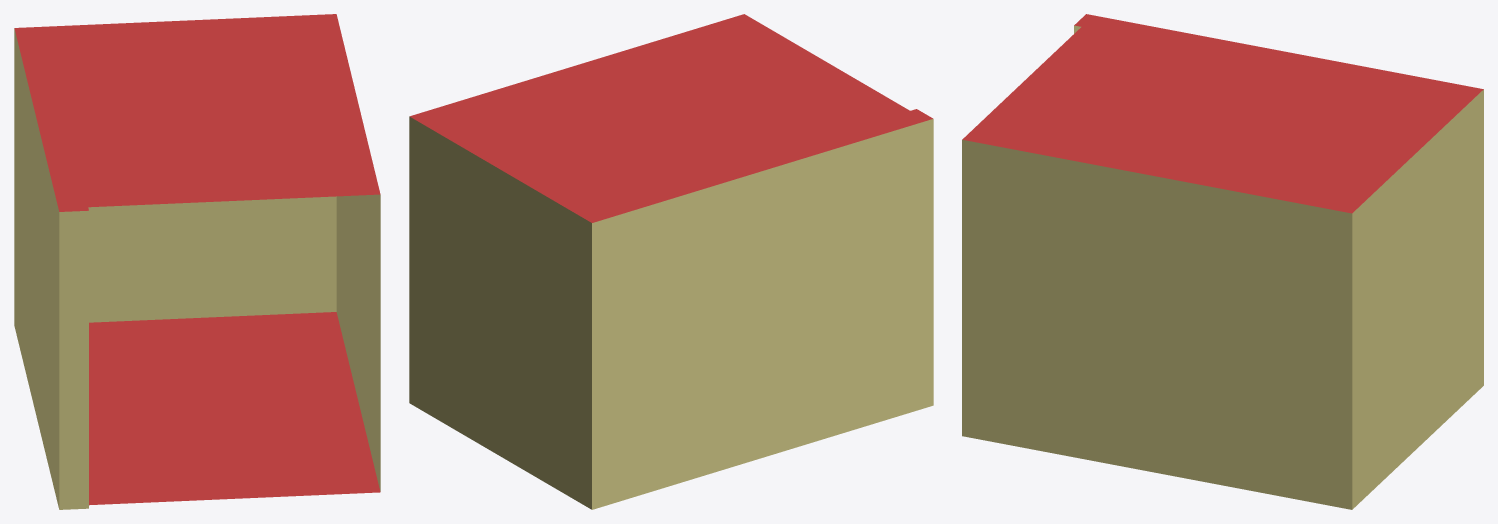
The picture shows the model from 3 angles, left to right: view 1: azimuth 30°, elevation 25°; view 2: azimuth 150°, elevation 25°; view 3: azimuth 270°, elevation 25°; orthographic projection. The views are drawn at different scales.
Bounding box in the file's own units: 7.91 × 8.74 × 5.48.
